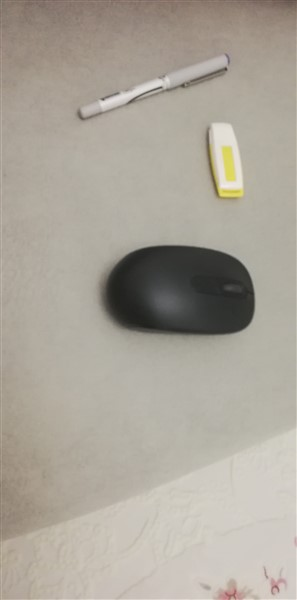flash disk: (203, 118, 246, 204)
mouse: (97, 242, 260, 339)
pilot kalem: (76, 45, 235, 128)
